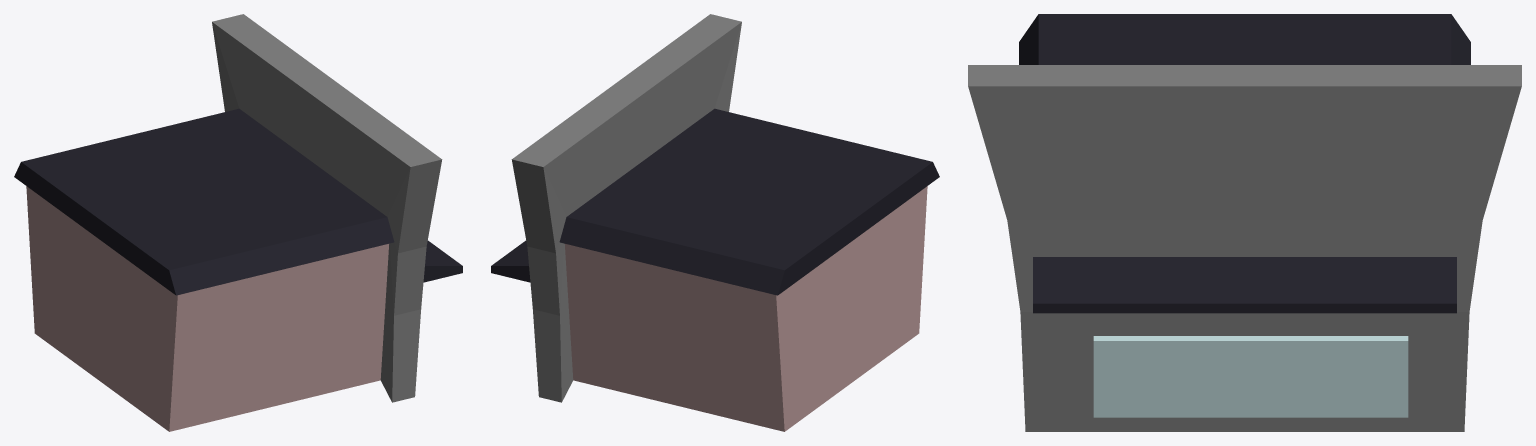
File: Lvl7.fbx
3 renders of one model, left to right at view 1: azimuth 30°, elevation 25°; view 2: azimuth 150°, elevation 25°; view 3: azimuth 270°, elevation 25°, orthographic. The views are drawn at different scales.
Visible parts, largest first — view 1: Lvl7; view 2: Lvl7; view 3: Lvl7.
Part boxes in pixels (x1,y1,x2,y2): Lvl7: (14,14,462,431); Lvl7: (491,14,939,431); Lvl7: (968,14,1521,431).
Bounding box in the file's own units: 296 × 244 × 350.
